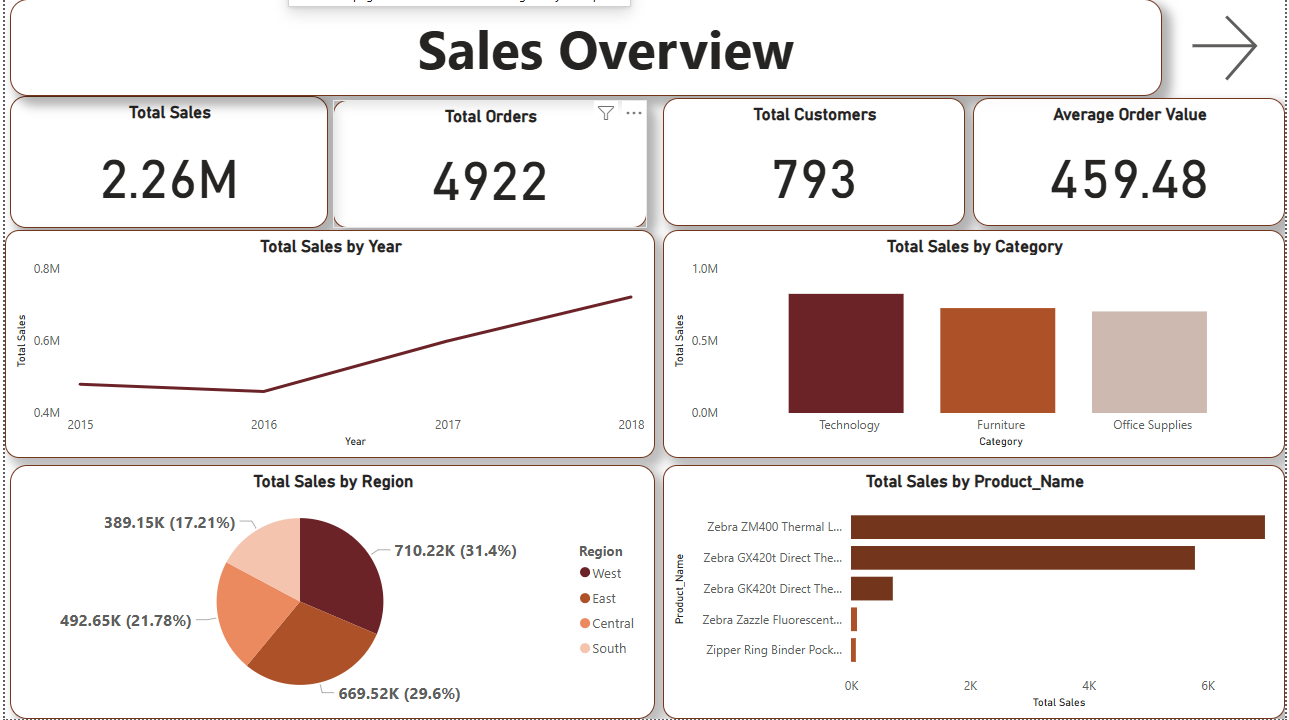

This screenshot's page, from the dashboard's own definition file:
{"tool":"powerbi","page":{"name":"Page 1","canvas":[1280,720],"ordinal":0},"visuals":[{"type":"card","title":"Total Sales","fields":{"Values":["DateTable.Total Sales"]},"box":[4.9,97.3,318.1,131.3],"z":0},{"type":"textbox","box":[4.8,0,1152.4,96.9],"z":1000},{"type":"card","title":"Total Customers","fields":{"Values":["DateTable.Total Customers"]},"box":[657.5,99.2,302.5,127.4],"z":2000},{"type":"card","title":"Total Orders ","fields":{"Values":["DateTable.Total Orders"]},"box":[327.8,101.2,314.2,127.4],"z":3000},{"type":"card","title":"Average Order Value","fields":{"Values":["DateTable.Average Order Value"]},"box":[967.8,99.2,312.2,127.4],"z":4000},{"type":"lineChart","fields":{"Category":["DateTable.Date.Variation.Date Hierarchy.Year","DateTable.Date.Variation.Date Hierarchy.Quarter","DateTable.Date.Variation.Date Hierarchy.Month","DateTable.Date.Variation.Date Hierarchy.Day"],"Y":["DateTable.Total Sales"]},"box":[0,231.5,649.7,227.6],"z":5000},{"type":"columnChart","fields":{"Y":["DateTable.Total Sales"],"Category":["Sales.Category"]},"box":[657.5,230.5,622.5,228.6],"z":6000},{"type":"pieChart","fields":{"Y":["DateTable.Total Sales"],"Category":["Sales.Region"]},"box":[4.9,465.9,644.9,253.9],"z":7000},{"type":"clusteredBarChart","fields":{"Category":["Sales.Product_Name"],"Y":["DateTable.Total Sales"]},"box":[657.5,465.9,622.5,253.9],"z":8000},{"type":"actionButton","box":[1179.3,8.6,100.7,80.6],"z":9000}]}

Visuals, with their boxes in screenshot pixels (x1, y1, x2, y2), scaled from the page's 1280x720 canvas onto the 1289x720 screenshot:
"Total Sales" card: 5, 97, 325, 229
textbox: 5, 0, 1165, 97
"Total Customers" card: 662, 99, 967, 227
"Total Orders " card: 330, 101, 647, 229
"Average Order Value" card: 975, 99, 1288, 227
lineChart - DateTable.Date.Variation.Date Hierarchy.Year x DateTable.Date.Variation.Date Hierarchy.Quarter: 0, 232, 654, 459
columnChart - DateTable.Total Sales x Sales.Category: 662, 230, 1288, 459
pieChart - DateTable.Total Sales x Sales.Region: 5, 466, 654, 719
clusteredBarChart - Sales.Product_Name x DateTable.Total Sales: 662, 466, 1288, 719
actionButton: 1188, 9, 1288, 89
